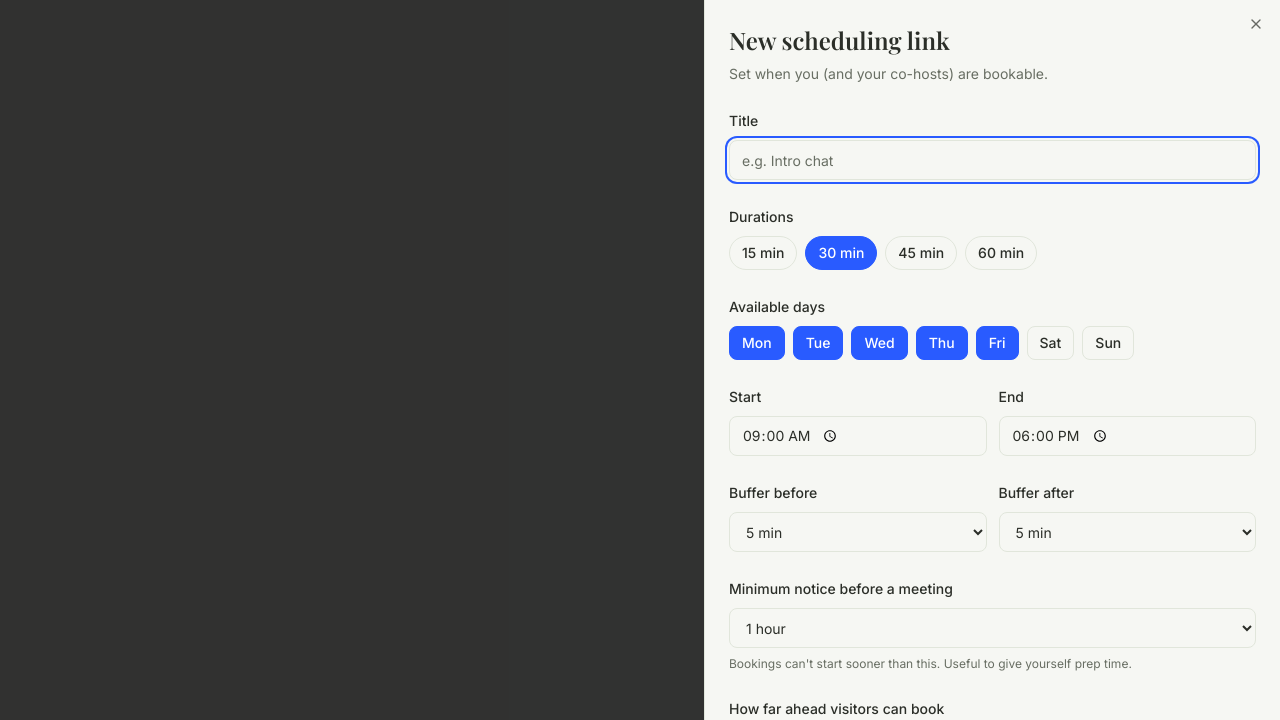
Test: outcome unknown (contract §7.4, AC-19, AC-22) › AC-22: an unknown outcome followed by a 422 still invalidates on close
Step 1. Type "Intro" into the field labelled "Title" → [992, 160], box [729, 140, 1256, 180]
(page scrolled)
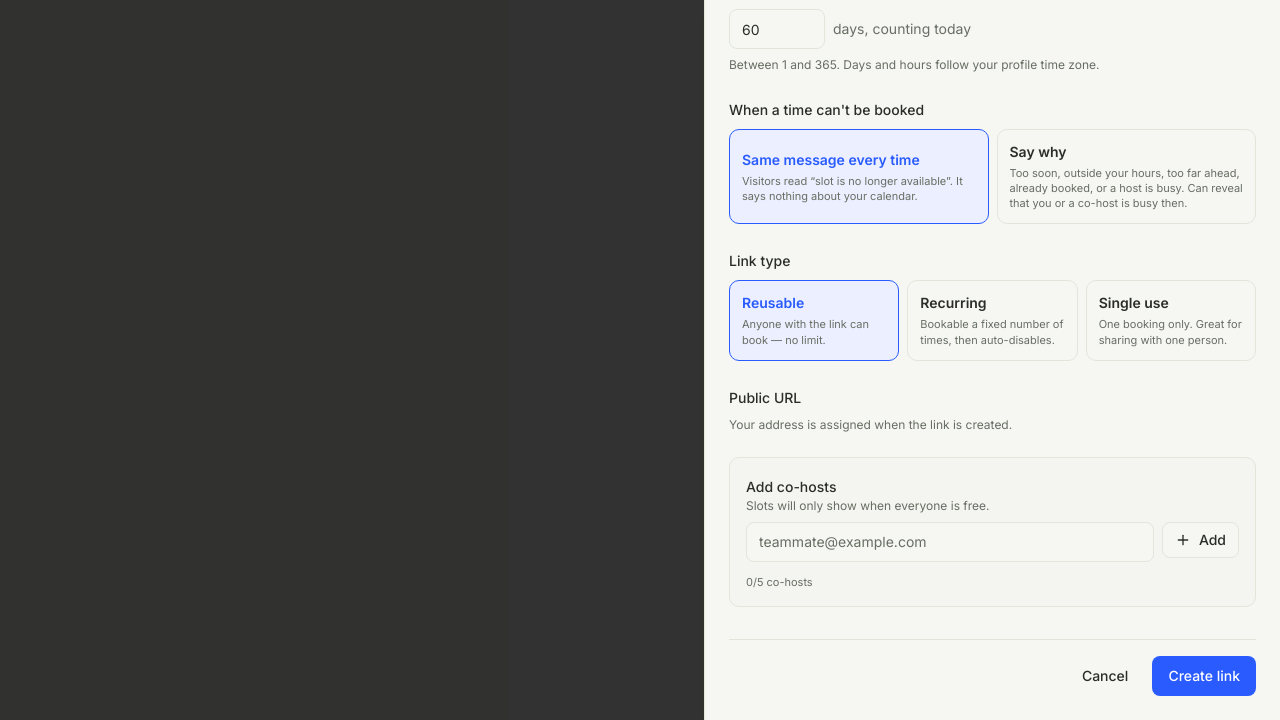
Step 2. Click the button "Create link" → [1204, 676], box [1152, 656, 1256, 696]
(page scrolled)
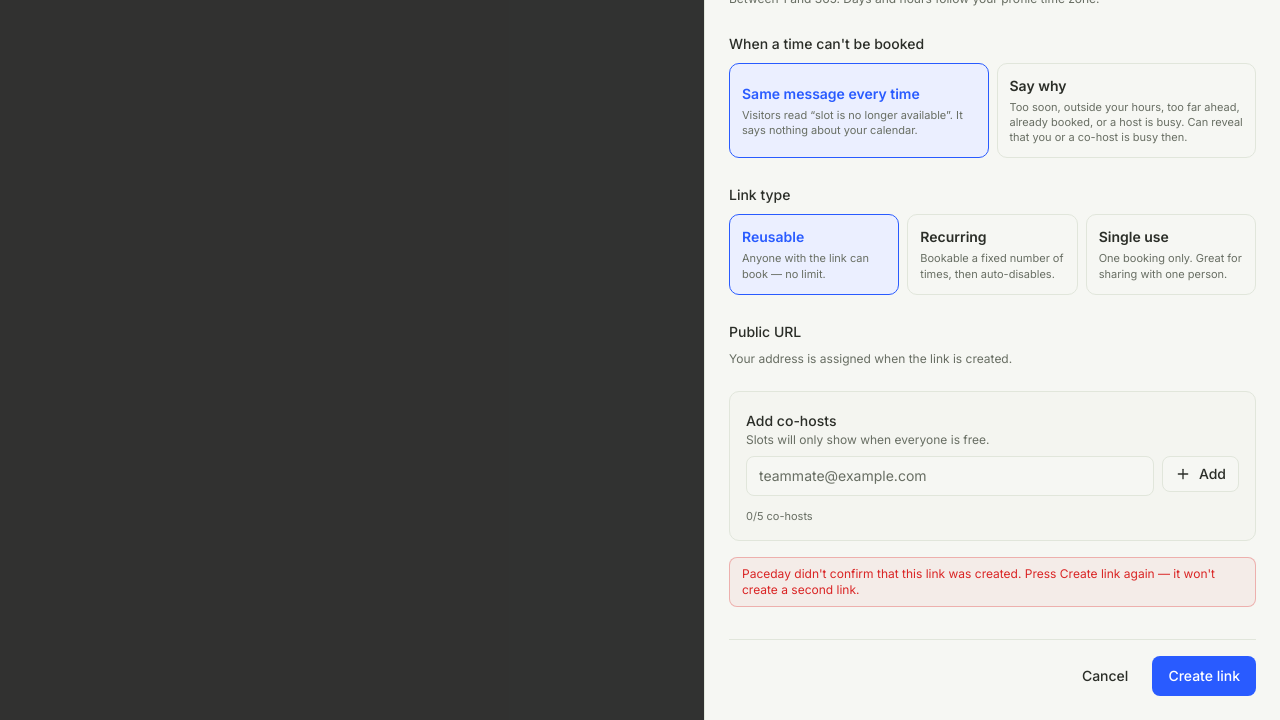
Now the message shows "Paceday didn't confirm that this link was created. Press Create link again — it won't create a second link.", box [742, 566, 1215, 597]
Step 3. Click the button "Create link" → [1204, 676], box [1152, 656, 1256, 696]
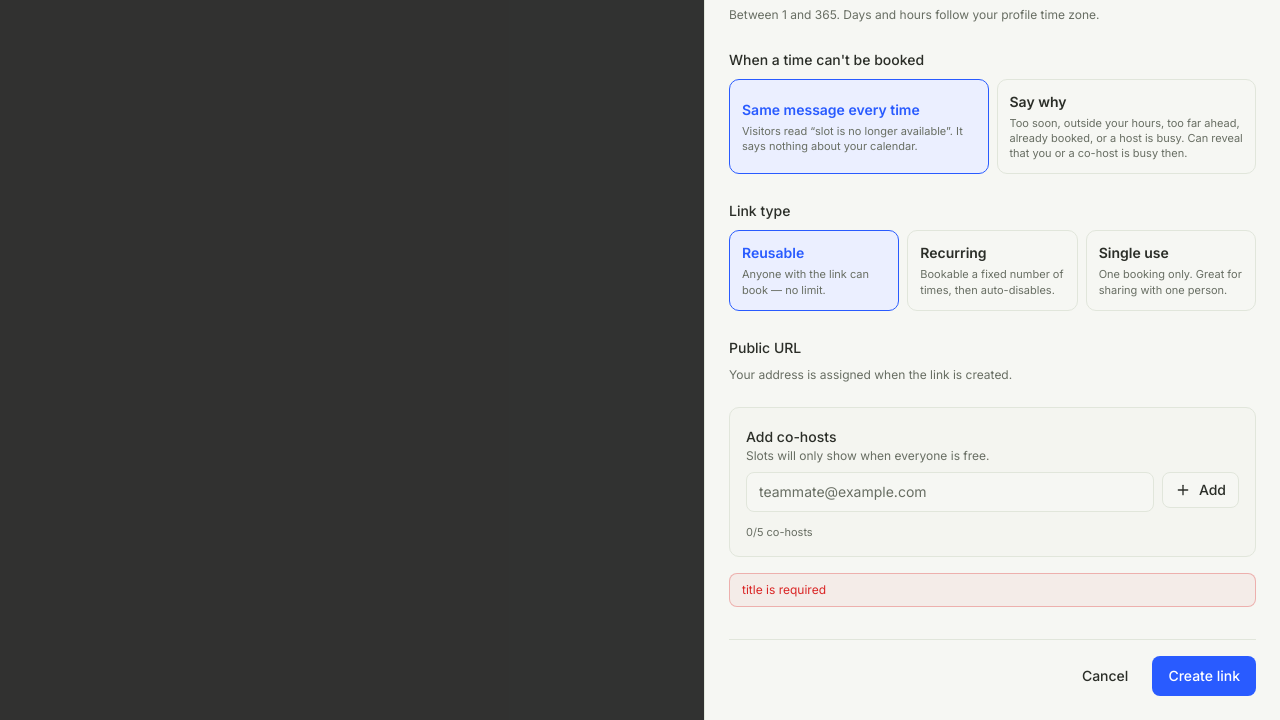
Now the message "Paceday didn't confirm that this link was created. Press Create link again — it" no longer shows "Paceday didn't confirm that this link was created. Press Create link again — it won't create a second link."
